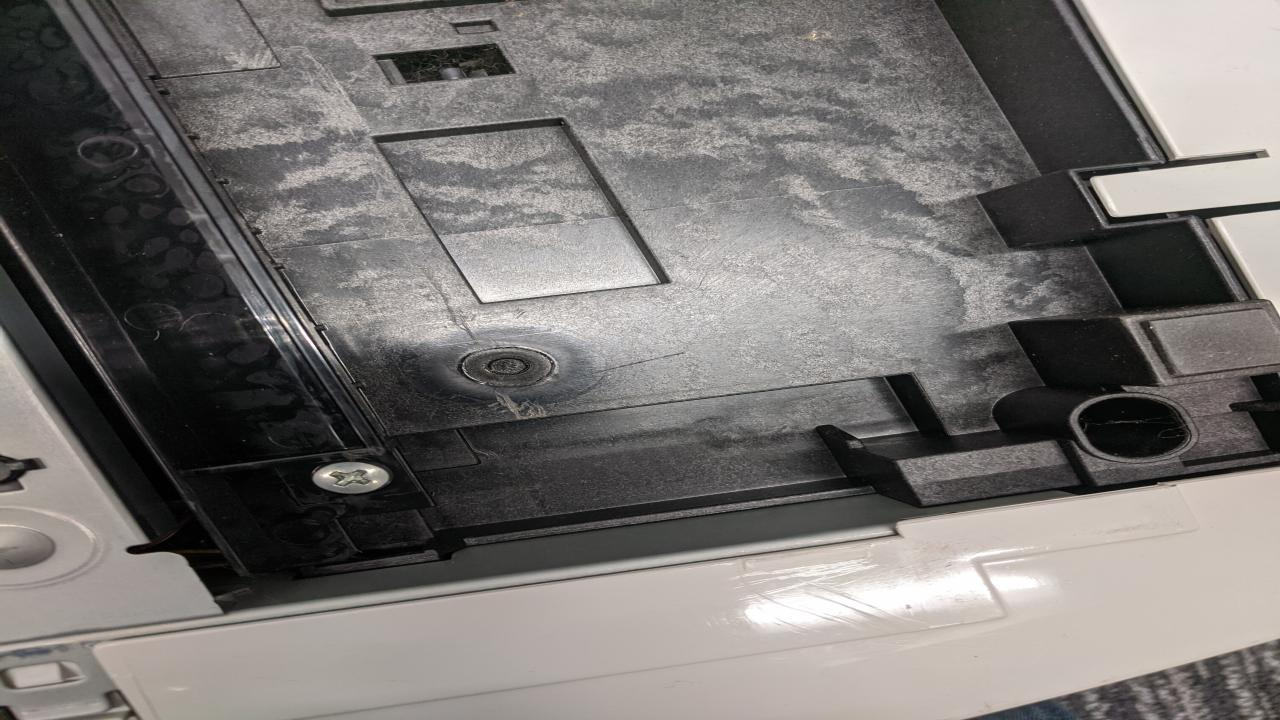CRS: (311, 460, 388, 492)
